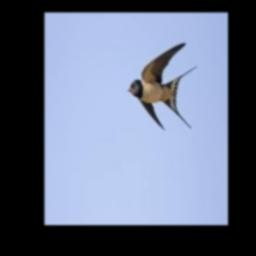Swallow: (128, 42, 198, 130)
